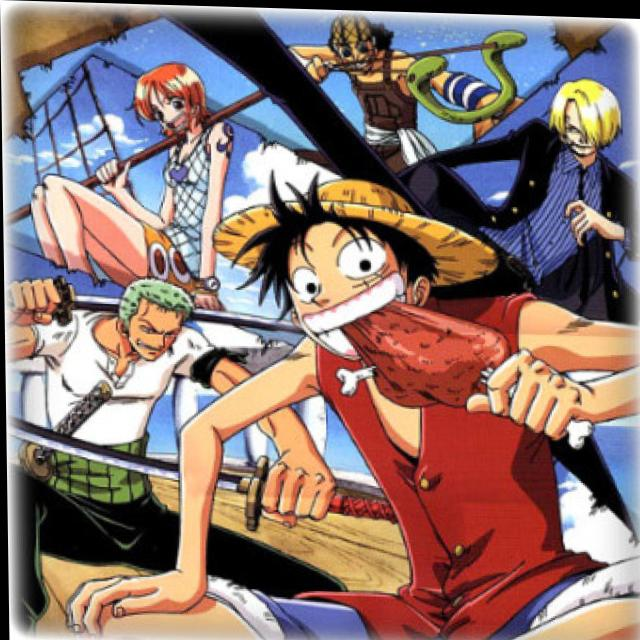Luffy: (216, 174, 491, 368)
Nami: (127, 51, 220, 152)
Sangdi: (542, 75, 632, 165)
Usopp: (314, 10, 388, 73)
Zoro: (100, 272, 195, 370)
